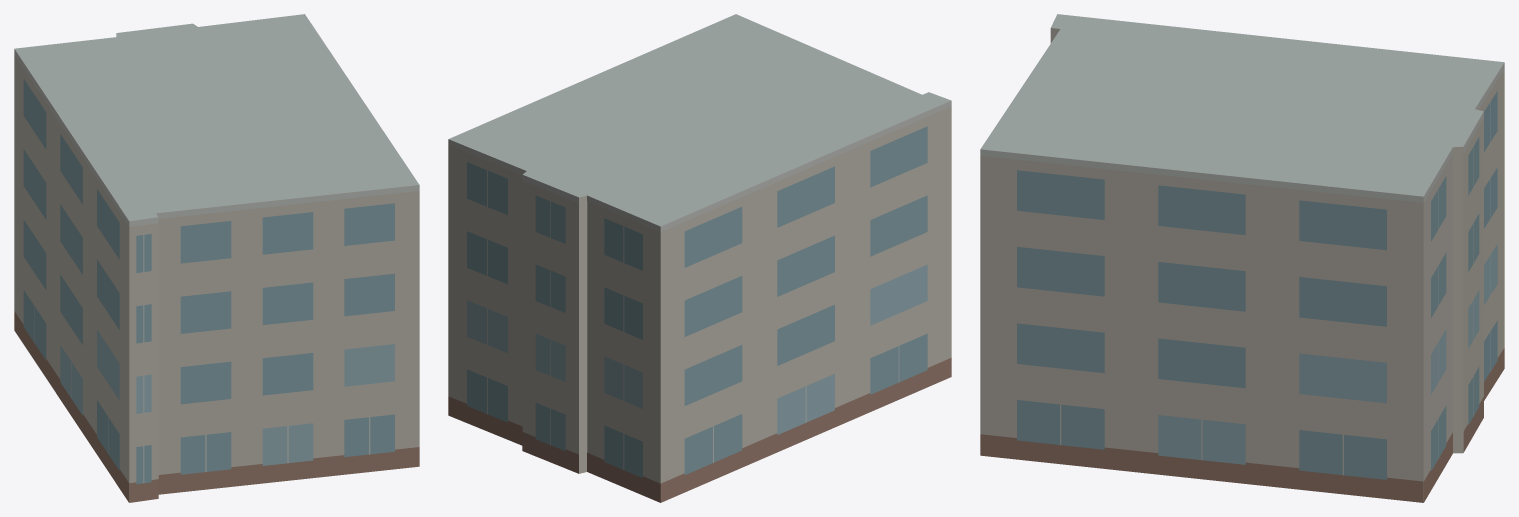
File: survey-upis-32819348.glb
3 renders of one model, left to right at view 1: azimuth 30°, elevation 25°; view 2: azimuth 150°, elevation 25°; view 3: azimuth 270°, elevation 25°, orthographic. The views are drawn at different scales.
Visible parts, largest first — view 1: survey-upis-32819348.tmp; view 2: survey-upis-32819348.tmp; view 3: survey-upis-32819348.tmp.
Boxes of the visible parts, x1,y1,x2,y2 form: survey-upis-32819348.tmp: [14, 14, 419, 502]; survey-upis-32819348.tmp: [448, 14, 951, 502]; survey-upis-32819348.tmp: [980, 14, 1504, 502].
Size of the model in its own units: 14.98 by 11.7 by 18.17.
